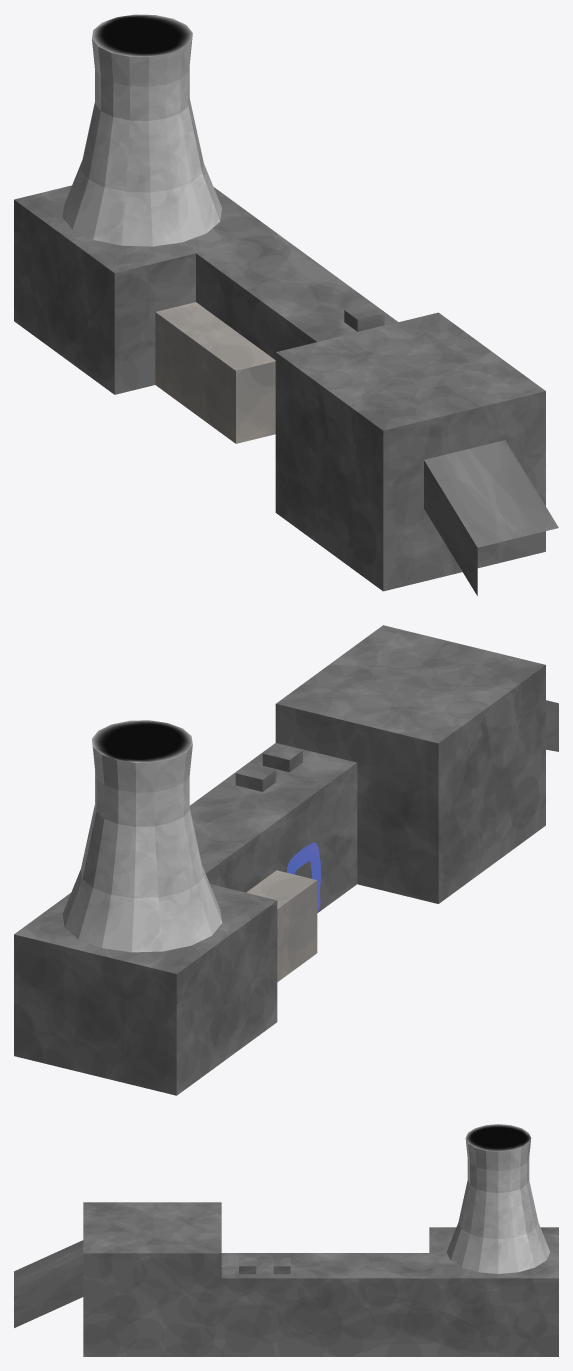
Rendered from item_factory.gltf.
3 views of the same model, one above another, from view 1: azimuth 30°, elevation 25°; view 2: azimuth 150°, elevation 25°; view 3: azimuth 270°, elevation 25° (orthographic). The views are drawn at different scales.
Visible parts, largest first — view 1: item_factory; view 2: item_factory; view 3: item_factory.
Boxes of the visible parts, x1=… form: item_factory: x1=14, y1=14, x2=558, y2=595; item_factory: x1=14, y1=625, x2=558, y2=1095; item_factory: x1=14, y1=1124, x2=558, y2=1356.
Size of the model in its own units: 7 by 12.33 by 31.5.
1 material, 1 textured.
